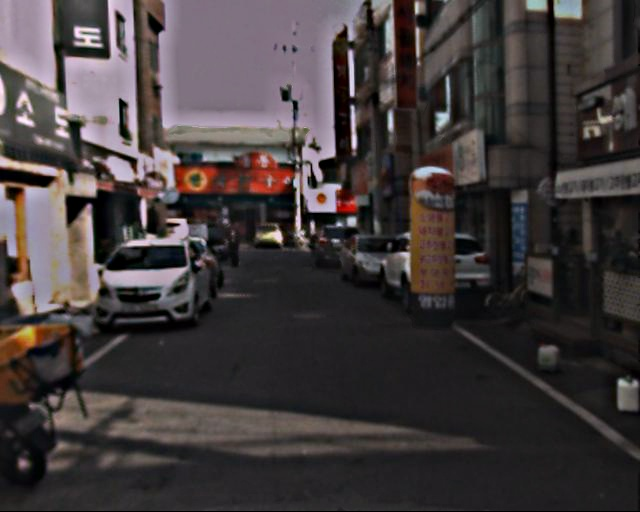person: (225, 220, 247, 269)
